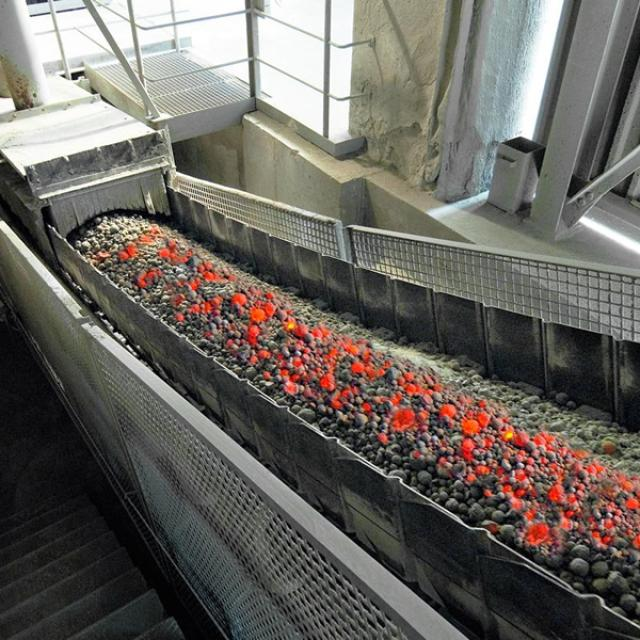conveyor: (27, 143, 640, 607)
